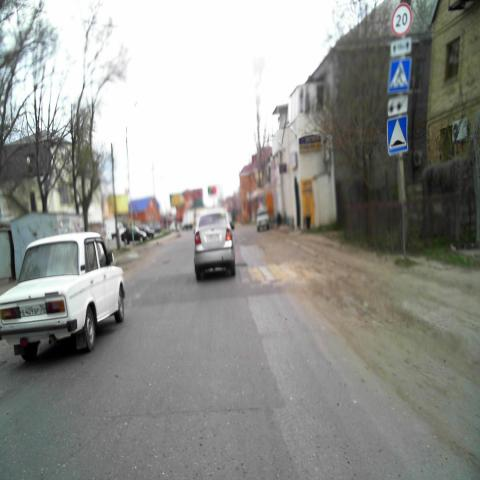8_15: (388, 95, 408, 115)
